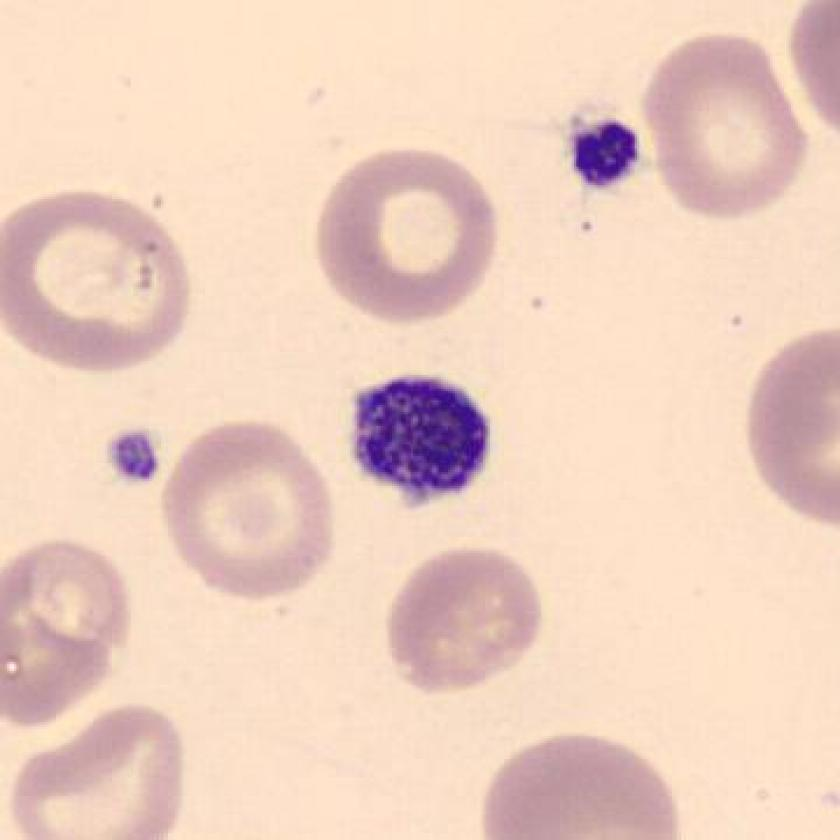platelets: (344, 365, 500, 520), (561, 96, 652, 209), (101, 415, 174, 501)
